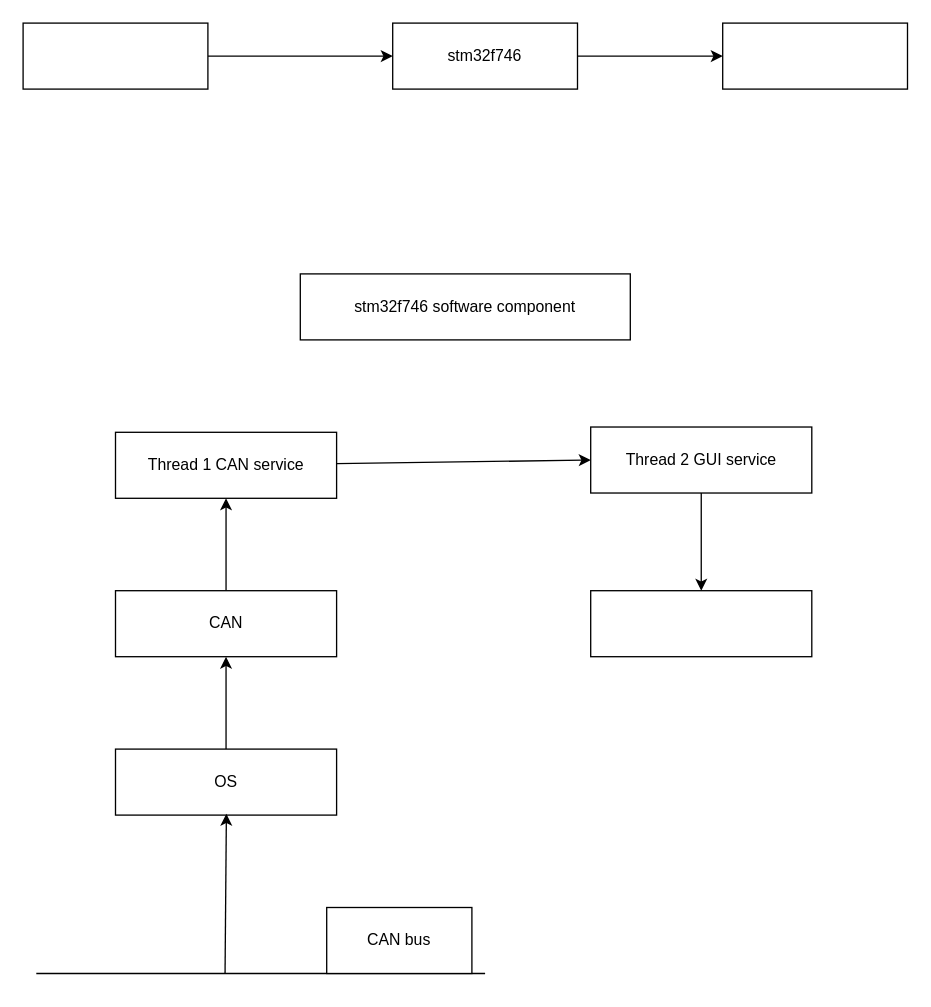
Image size: 931x1007. Some labels were removed from this diagram. Each missing label, with the centre of its shape:
"CAN node" goes at point 115,55.
"LCD" goes at point 814,55.
"lvgl" goes at point 700,623.
